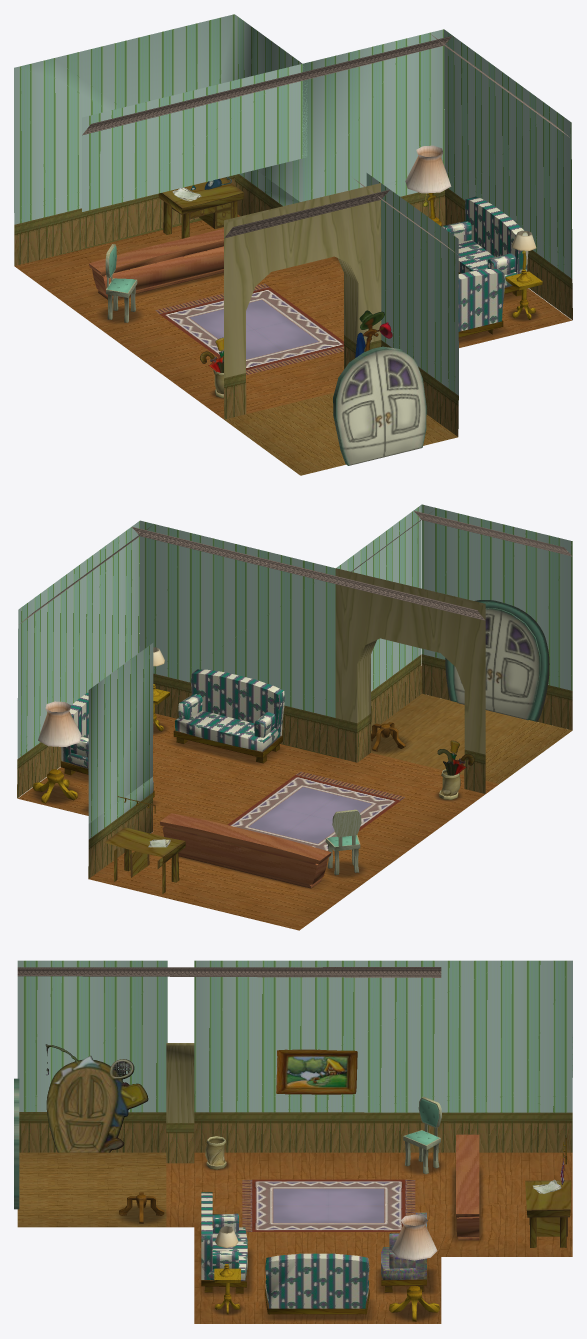
Rendered from library.glb.
3 views of the same model, one above another, from view 1: azimuth 30°, elevation 25°; view 2: azimuth 150°, elevation 25°; view 3: azimuth 270°, elevation 25° (orthographic). The views are drawn at different scales.
Visible parts, largest first — view 1: random_tc1_TI_wallpaper, random_tc1_TI_floor, arch, random_tc1_TI_wainscotting, random_to1_TI_couch (×2), wood_floor, random_to1_TI_molding, rightDoor, random_tc1_TI_wallpaper_border, leftDoor, o4, o2_1 (+8 smaller); view 2: random_tc1_TI_wallpaper, random_tc1_TI_floor, arch, random_tc1_TI_wainscotting, wood_floor, random_to1_TI_couch (×2), o2 (×2), random_to1_TI_molding, random_tc1_TI_wallpaper_border, rightDoor, o2_1, o7 (+12 smaller); view 3: random_tc1_TI_wallpaper, random_tc1_TI_floor, random_tc1_TI_wainscotting, doors_windows, wood_floor, random_to1_TI_couch (×3), random_tc1_TI_wallpaper_border, random_to1_TI_molding, arch, o2_3, o2_2, o2_1 (+14 smaller).
Boxes of the visible parts, x1=… form: random_tc1_TI_wallpaper: x1=14, y1=14, x2=572, y2=378; random_tc1_TI_floor: x1=14, y1=214, x2=571, y2=419; arch: x1=224, y1=183, x2=381, y2=378; random_tc1_TI_wainscotting: x1=14, y1=174, x2=572, y2=436; random_to1_TI_couch (×2): x1=442, y1=196, x2=528, y2=331; wood_floor: x1=224, y1=393, x2=457, y2=475; random_to1_TI_molding: x1=82, y1=34, x2=569, y2=254; rightDoor: x1=333, y1=348, x2=384, y2=465; random_tc1_TI_wallpaper_border: x1=14, y1=170, x2=572, y2=395; leftDoor: x1=374, y1=346, x2=426, y2=457; o4: x1=101, y1=240, x2=223, y2=299; o2_1: x1=254, y1=316, x2=343, y2=358; random_tc1_TI_wallpaper: x1=17, y1=504, x2=572, y2=823; random_tc1_TI_floor: x1=18, y1=713, x2=498, y2=930; arch: x1=335, y1=568, x2=485, y2=754; random_tc1_TI_wainscotting: x1=17, y1=654, x2=572, y2=878; wood_floor: x1=371, y1=693, x2=572, y2=783; random_to1_TI_couch (×2): x1=61, y1=669, x2=284, y2=768; o2 (×2): x1=160, y1=802, x2=319, y2=888; random_to1_TI_molding: x1=20, y1=510, x2=572, y2=623; random_tc1_TI_wallpaper_border: x1=17, y1=646, x2=572, y2=839; rightDoor: x1=493, y1=609, x2=540, y2=720; o2_1: x1=258, y1=775, x2=347, y2=815; o7: x1=160, y1=813, x2=331, y2=860; random_tc1_TI_wallpaper: x1=17, y1=960, x2=572, y2=1096; random_tc1_TI_floor: x1=166, y1=1152, x2=572, y2=1323; random_tc1_TI_wainscotting: x1=19, y1=1112, x2=572, y2=1163; doors_windows: x1=45, y1=1044, x2=357, y2=1152; wood_floor: x1=17, y1=1152, x2=166, y2=1227; random_to1_TI_couch (×3): x1=201, y1=1192, x2=426, y2=1308; random_tc1_TI_wallpaper_border: x1=19, y1=1096, x2=572, y2=1112; random_to1_TI_molding: x1=17, y1=967, x2=441, y2=977; arch: x1=166, y1=1043, x2=194, y2=1122; o2_3: x1=252, y1=1179, x2=328, y2=1205; o2_2: x1=329, y1=1179, x2=405, y2=1205; o2_1: x1=252, y1=1206, x2=328, y2=1231.
Bounding box in the file's own units: 23.36 × 12.13 × 31.68.
33 materials, 31 textured.
